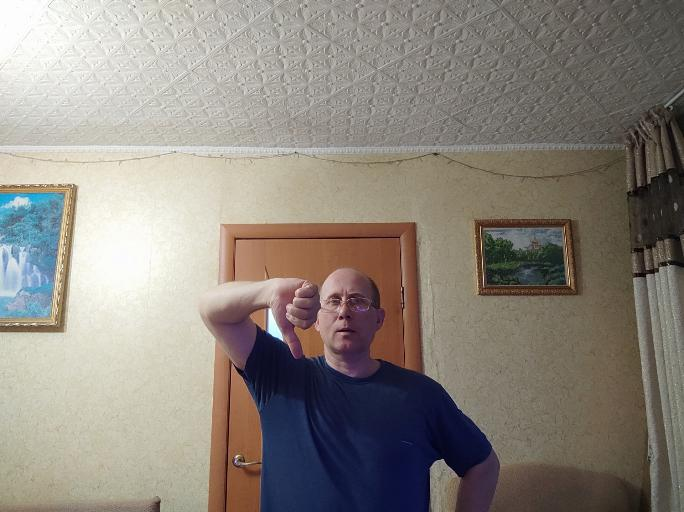dislike: (264, 268, 323, 364)
